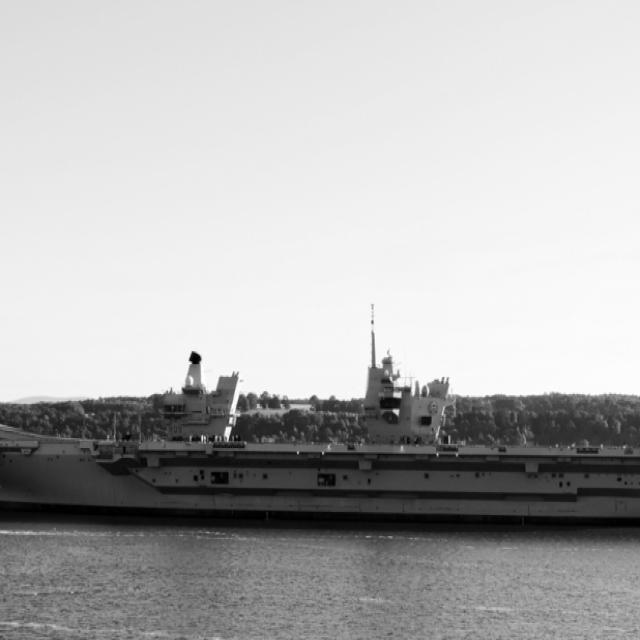Portanaves: (1, 304, 640, 539)
